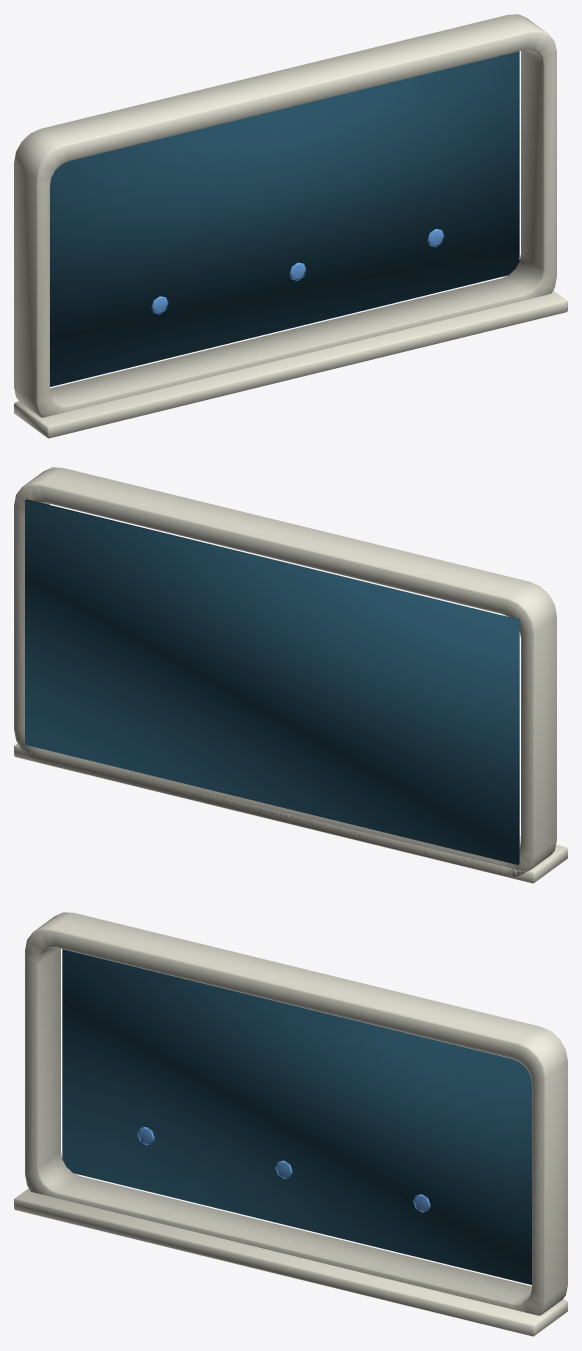
File: SM_L1_Shelf_A.fbx
The picture shows the model from 3 angles, top to bottom: view 1: azimuth 30°, elevation 25°; view 2: azimuth 150°, elevation 25°; view 3: azimuth 330°, elevation 25°; orthographic projection.
Visible parts, largest first — view 1: SM_L1_Shelf_A; view 2: SM_L1_Shelf_A; view 3: SM_L1_Shelf_A.
Boxes of the visible parts, box(x1,y1,x2,y2) form: SM_L1_Shelf_A: box(14, 14, 567, 438); SM_L1_Shelf_A: box(14, 467, 567, 883); SM_L1_Shelf_A: box(14, 912, 567, 1336).
Bounding box in the file's own units: 3.55 × 1.82 × 0.435.
